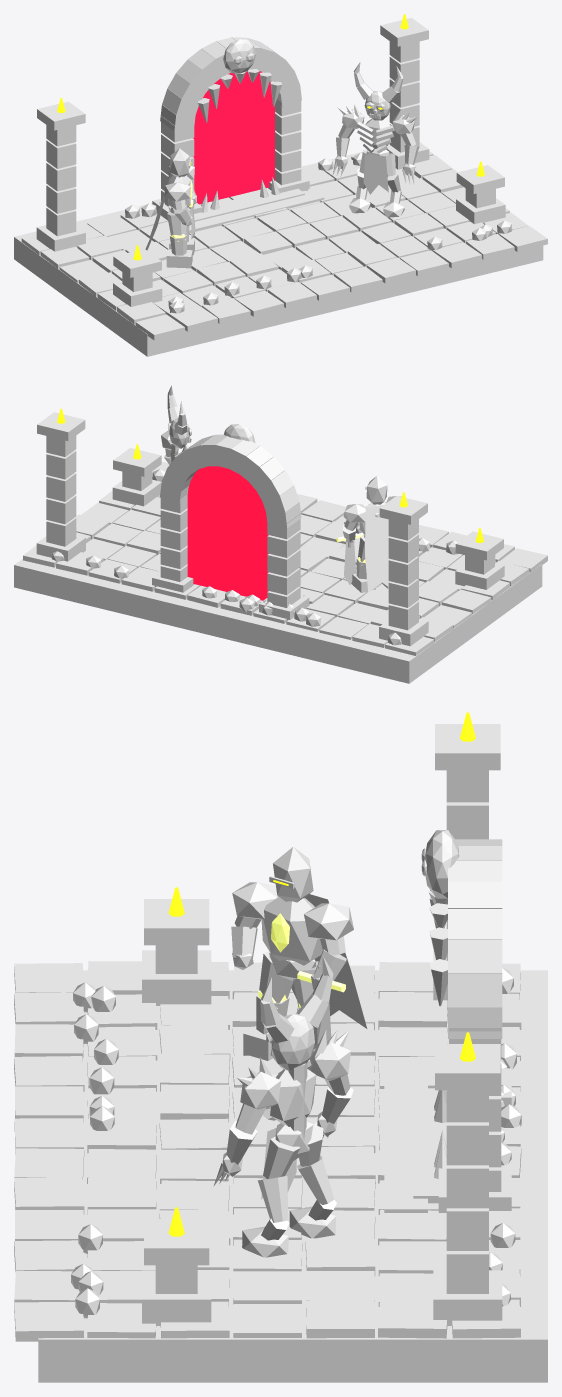
The model's file is demon-fighter-kit.glb.
The picture shows the model from 3 angles, top to bottom: view 1: azimuth 30°, elevation 25°; view 2: azimuth 150°, elevation 25°; view 3: azimuth 270°, elevation 25°; orthographic projection. The views are drawn at different scales.
Visible parts, largest first — view 1: Diorama plinth, Red veil, Threshold.001, Threshold, Column crown, Column crown.003, Column crown.002, Column crown.001, Pillar foot.002, Broken flagstone, Pillar foot.001, Pillar foot (+80 smaller); view 2: Diorama plinth, Red veil, Torn crimson mantle, Column crown.003, Column crown.002, Column crown.001, Column crown, Pillar foot, Pillar foot.002, Broken flagstone.003, Pillar foot.001, Pillar foot.003 (+71 smaller); view 3: Diorama plinth, Threshold.001, Column crown.001, Column crown.003, Column crown, Column crown.002, Threshold, Pillar foot, Pillar foot.002, Broken flagstone.081, Pillar foot.003, Broken flagstone.077 (+91 smaller).
Part boxes in pixels (x1,y1,x2,y2): Diorama plinth: [14, 151, 543, 356]; Red veil: [193, 71, 274, 204]; Threshold.001: [189, 189, 324, 234]; Threshold: [194, 188, 304, 221]; Column crown: [113, 249, 161, 277]; Column crown.003: [380, 17, 428, 46]; Column crown.002: [456, 165, 504, 193]; Column crown.001: [37, 101, 85, 130]; Pillar foot.002: [456, 197, 505, 224]; Broken flagstone: [135, 314, 184, 340]; Pillar foot.001: [36, 225, 85, 251]; Pillar foot: [113, 281, 162, 306]; Diorama plinth: [14, 537, 542, 683]; Red veil: [187, 466, 268, 600]; Torn crimson mantle: [365, 505, 390, 592]; Column crown.003: [37, 412, 85, 441]; Column crown.002: [113, 448, 161, 476]; Column crown.001: [379, 496, 427, 524]; Column crown: [455, 531, 503, 560]; Pillar foot: [455, 563, 504, 589]; Pillar foot.002: [112, 479, 161, 506]; Broken flagstone.003: [442, 589, 491, 614]; Pillar foot.001: [379, 619, 428, 646]; Pillar foot.003: [36, 535, 85, 561]; Diorama plinth: [38, 970, 547, 1382]; Threshold.001: [384, 1080, 427, 1212]; Column crown.001: [435, 724, 500, 770]; Column crown.003: [435, 1044, 500, 1090]; Column crown: [144, 899, 209, 945]; Column crown.002: [144, 1219, 209, 1265]; Threshold: [413, 1088, 446, 1203]; Pillar foot: [142, 950, 211, 1005]; Pillar foot.002: [142, 1270, 211, 1325]; Broken flagstone.081: [306, 1300, 374, 1338]; Pillar foot.003: [433, 1270, 502, 1325]; Broken flagstone.077: [14, 1302, 83, 1341].
Size of the model in its own units: 12 by 5.55 by 7.33.
